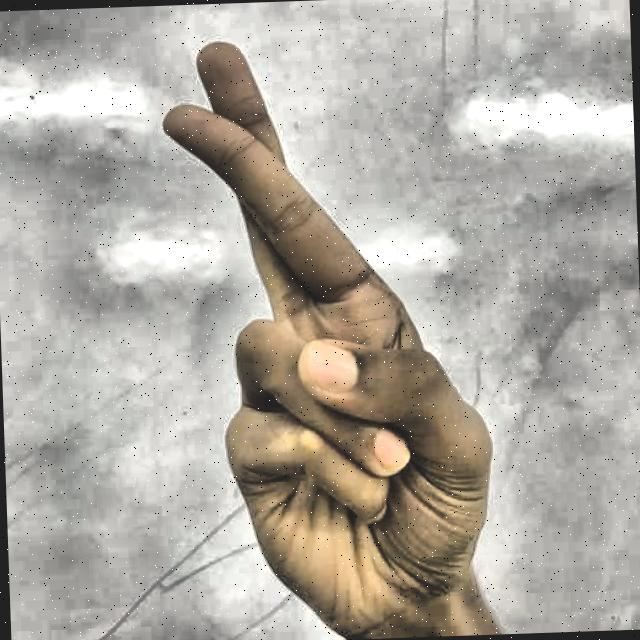Ra: (92, 6, 529, 640)
